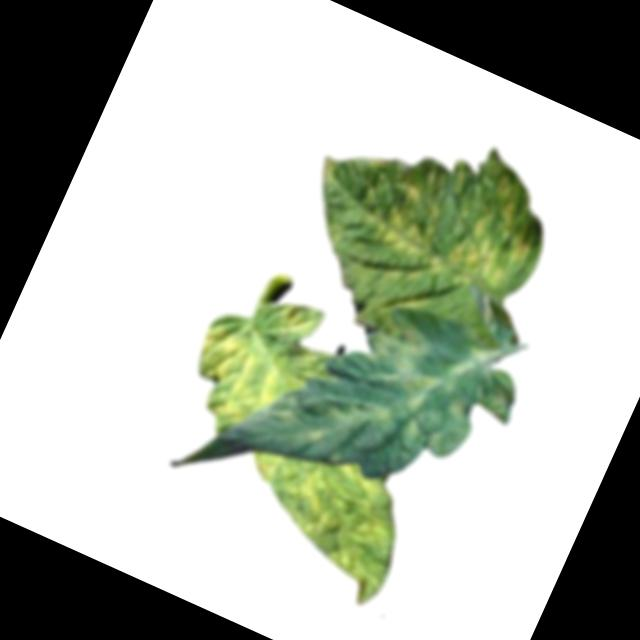Leaf_Mold: (296, 83, 571, 312), (216, 428, 428, 613), (322, 301, 490, 472), (170, 303, 304, 449)
